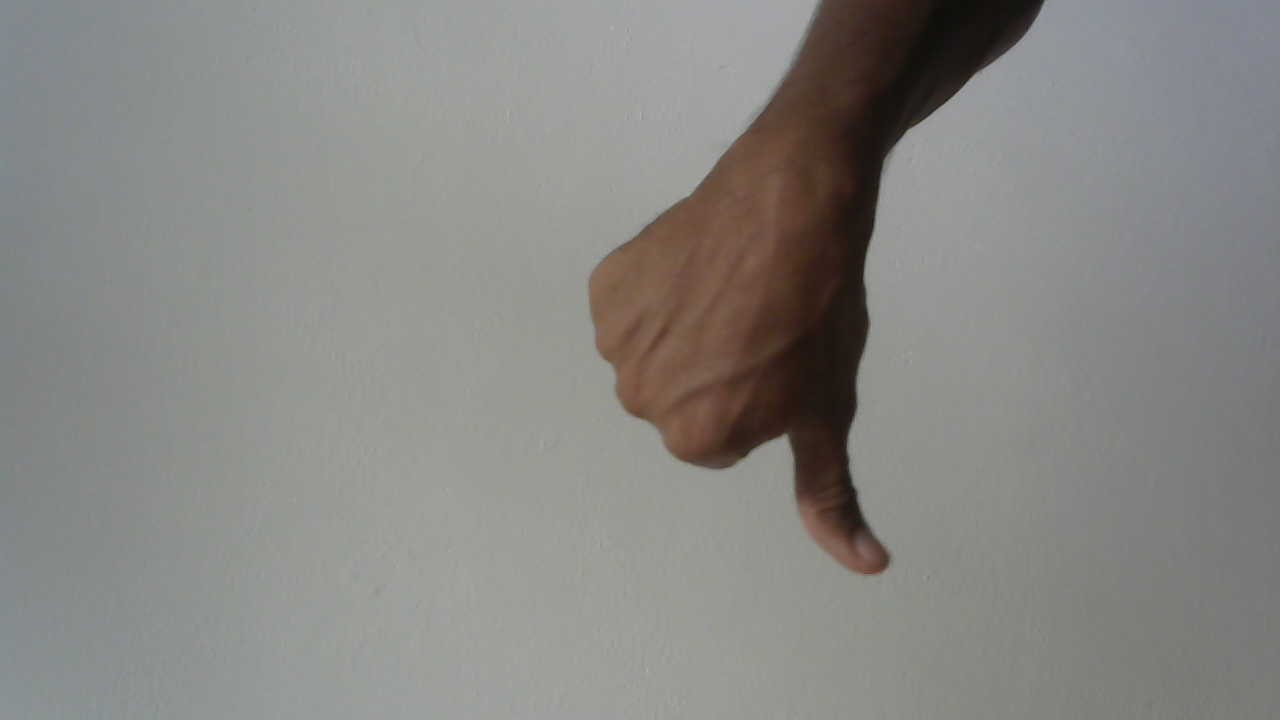thumbsdown: (560, 142, 922, 594)
